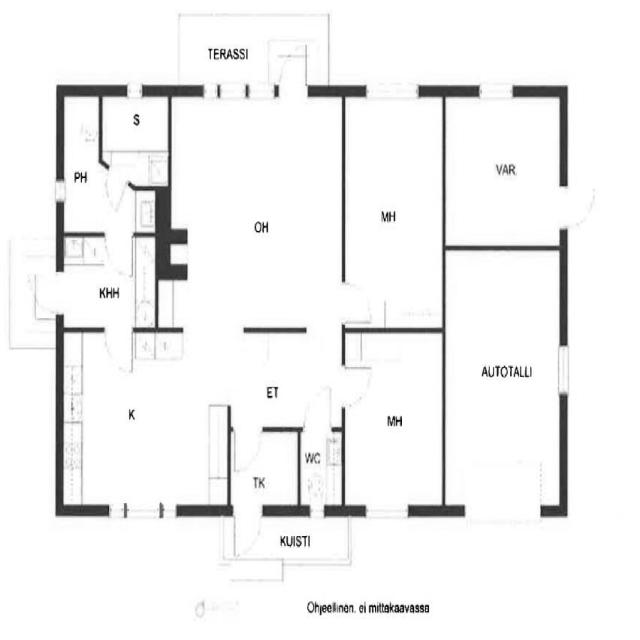door: (232, 426, 300, 510), (303, 372, 377, 422), (276, 45, 312, 108), (557, 180, 600, 231), (228, 504, 266, 560), (337, 277, 376, 329), (29, 267, 65, 320), (300, 382, 334, 436), (338, 360, 374, 410), (102, 324, 136, 376), (229, 424, 264, 474), (102, 230, 136, 277), (104, 175, 130, 217), (307, 501, 329, 524)
window: (463, 502, 541, 530), (359, 74, 425, 105), (119, 496, 182, 524), (198, 76, 253, 103), (358, 498, 414, 524), (475, 78, 518, 104), (554, 339, 572, 400), (244, 79, 278, 105), (122, 77, 147, 102), (52, 175, 67, 206), (307, 502, 328, 524)
zone: (173, 91, 344, 329), (444, 247, 563, 508), (60, 333, 231, 513), (342, 88, 444, 336), (443, 94, 564, 248), (343, 331, 446, 508), (230, 328, 346, 426), (58, 234, 143, 330), (100, 92, 170, 186), (229, 428, 300, 511), (60, 93, 102, 232), (300, 428, 344, 513)
